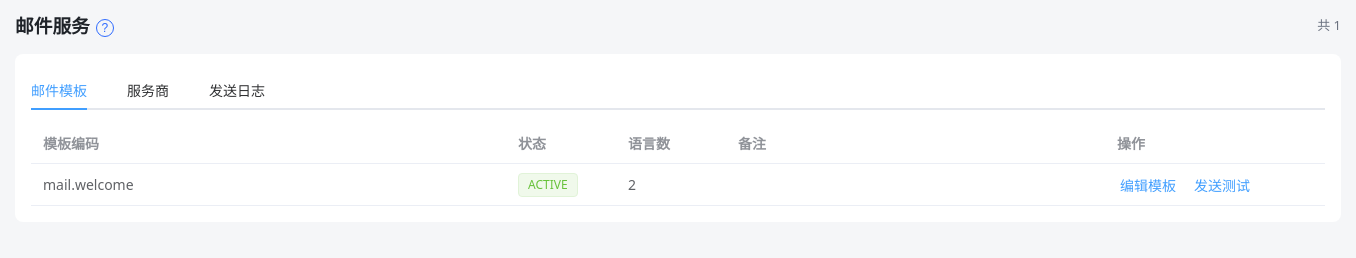
Test: MailView › 切换到服务商页签时加载服务商并隐藏密码
Click the tab "服务商".
click(148, 90)  # box [127,81,169,100]
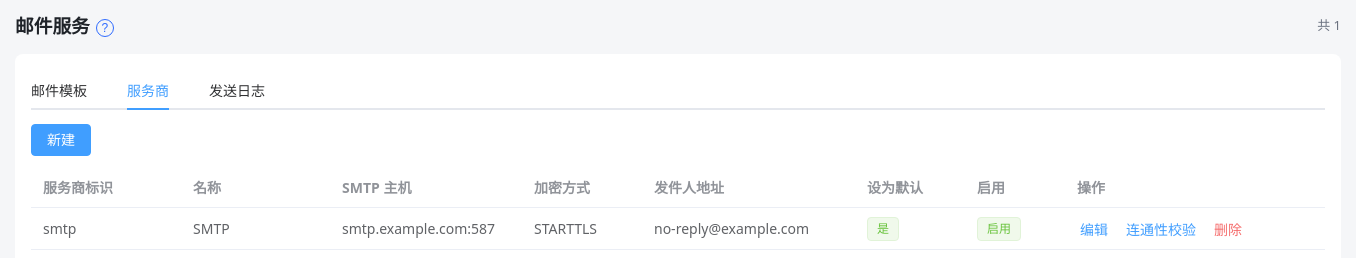
Expected: the text "smtp.example.com:587" is shown, [342,219,495,238]
